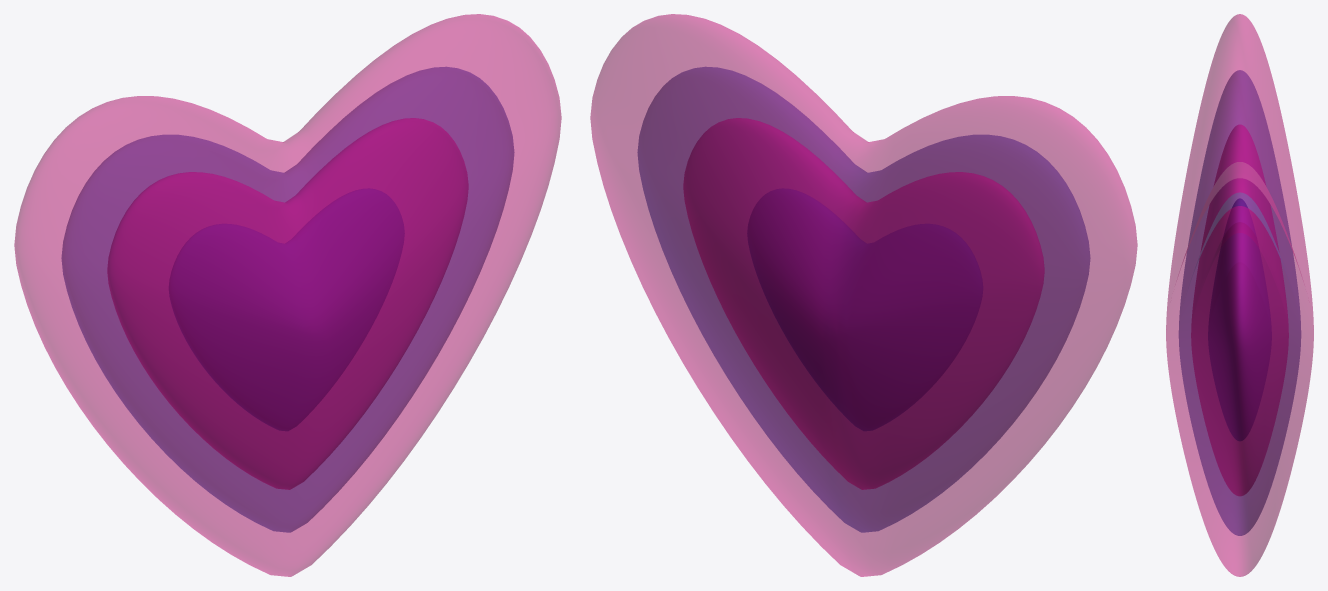
Rendered from heart.fbx.
3 renders of one model, left to right at view 1: azimuth 30°, elevation 25°; view 2: azimuth 150°, elevation 25°; view 3: azimuth 270°, elevation 25°, orthographic. The views are drawn at different scales.
Visible parts, largest first — view 1: pSphere31; view 2: pSphere31; view 3: pSphere31.
Boxes of the visible parts, x1=… form: pSphere31: x1=14, y1=14, x2=561, y2=576; pSphere31: x1=590, y1=14, x2=1137, y2=576; pSphere31: x1=1166, y1=14, x2=1313, y2=576.
Size of the model in its own units: 4.41 by 4 by 1.13.
